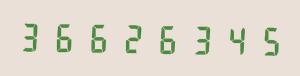five: (248, 21, 280, 58)
four: (215, 21, 247, 57)
six: (83, 18, 115, 55), (149, 19, 181, 56), (50, 18, 82, 54)
three: (17, 17, 49, 54), (182, 20, 214, 57)
two: (116, 19, 148, 55)
